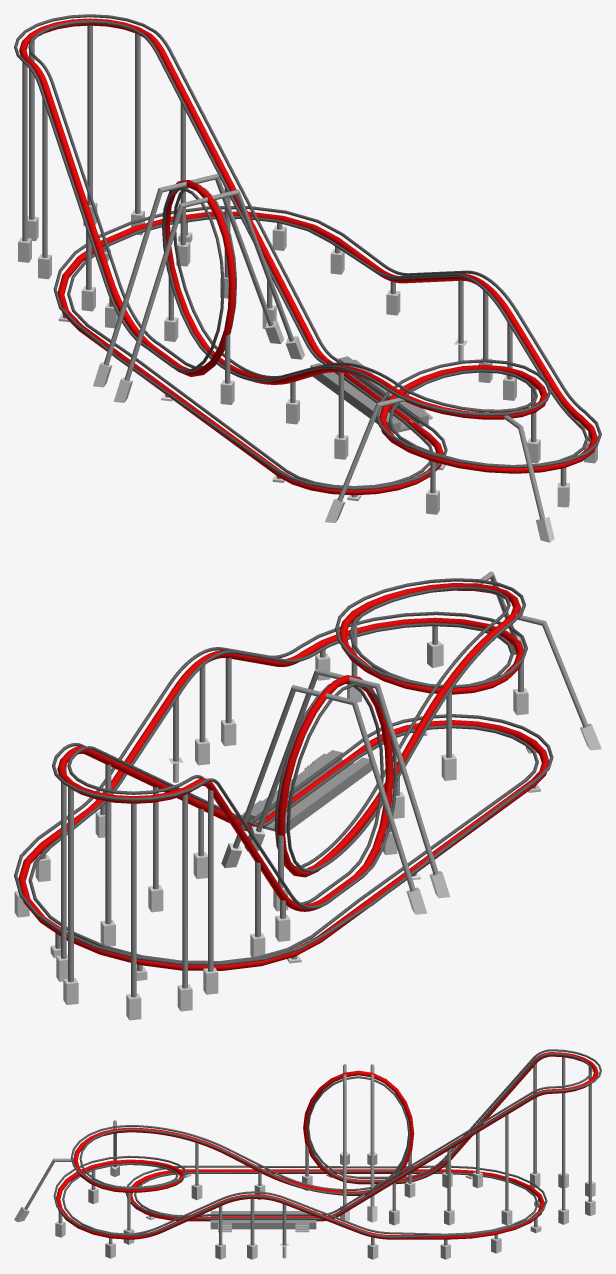
Rendered from RollerAsset.fbx.
The picture shows the model from 3 angles, top to bottom: view 1: azimuth 30°, elevation 25°; view 2: azimuth 150°, elevation 25°; view 3: azimuth 270°, elevation 25°; orthographic projection. The views are drawn at different scales.
Parts seen in each view (by area): view 1: Material2.1626; view 2: Material2.1626; view 3: Material2.1626.
Boxes of the visible parts, x1,y1,x2,y2 form: Material2.1626: (14, 14, 601, 542); Material2.1626: (14, 571, 601, 1020); Material2.1626: (14, 1049, 601, 1259).
Size of the model in its own units: 6148 by 3947 by 15532.
